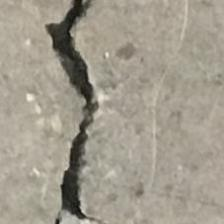Crack: (31, 0, 154, 224)
